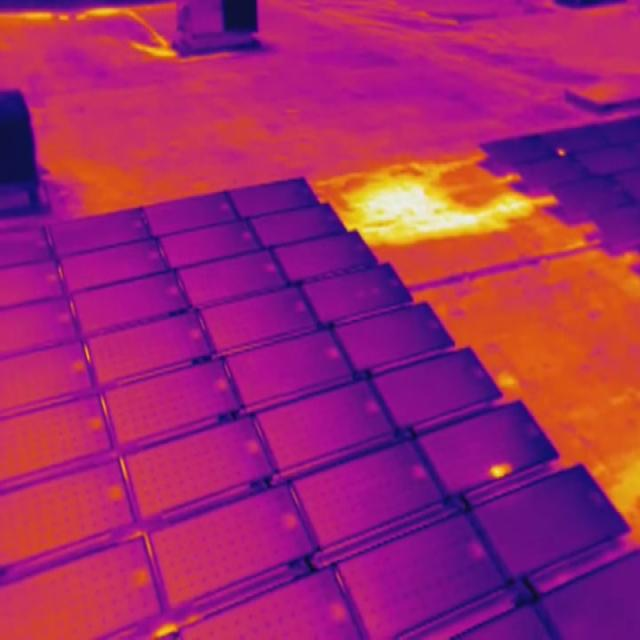Orange-Spots: (489, 461, 512, 479), (556, 148, 566, 157)
